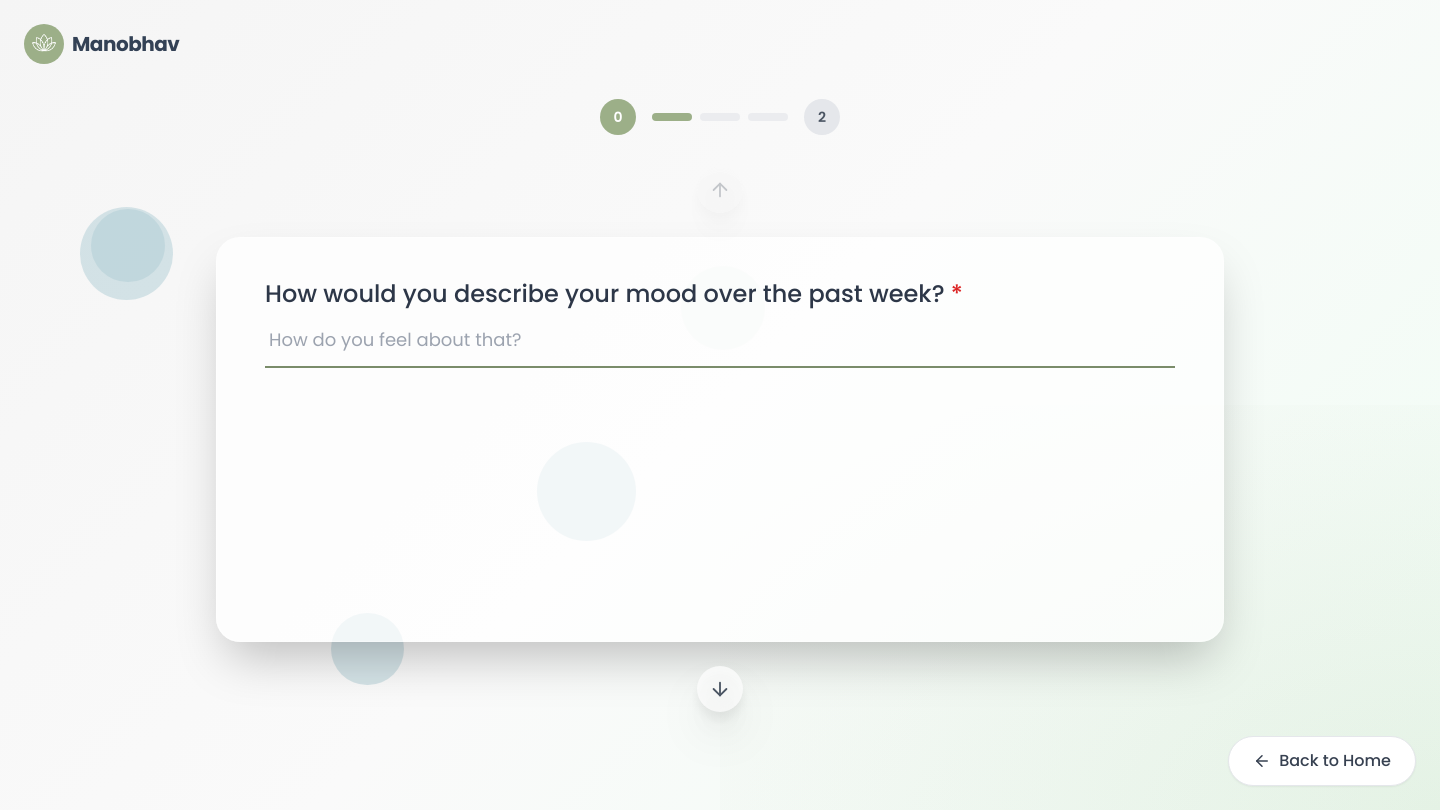
Test case: public route interactions › supports journey next and previous controls
expect the text "How would you describe your mood over the past week?" is shown: met, box [265,276,945,310]
Type "Steady" into the field named "describe your mood over the past week". click: (720, 346)
box: [265,326,1175,368]
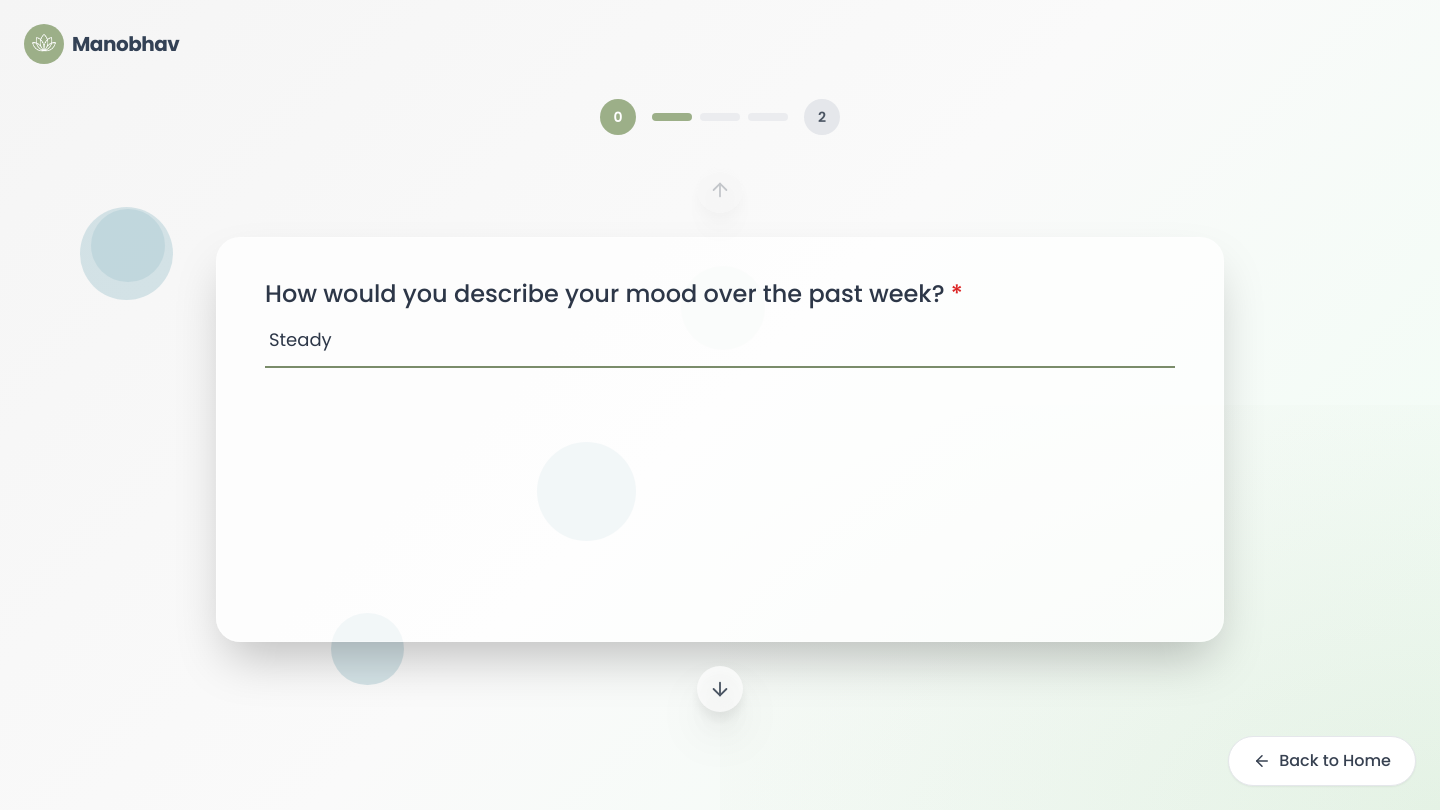
Click the button named "next question". click: (720, 688)
box: [697,666,743,712]
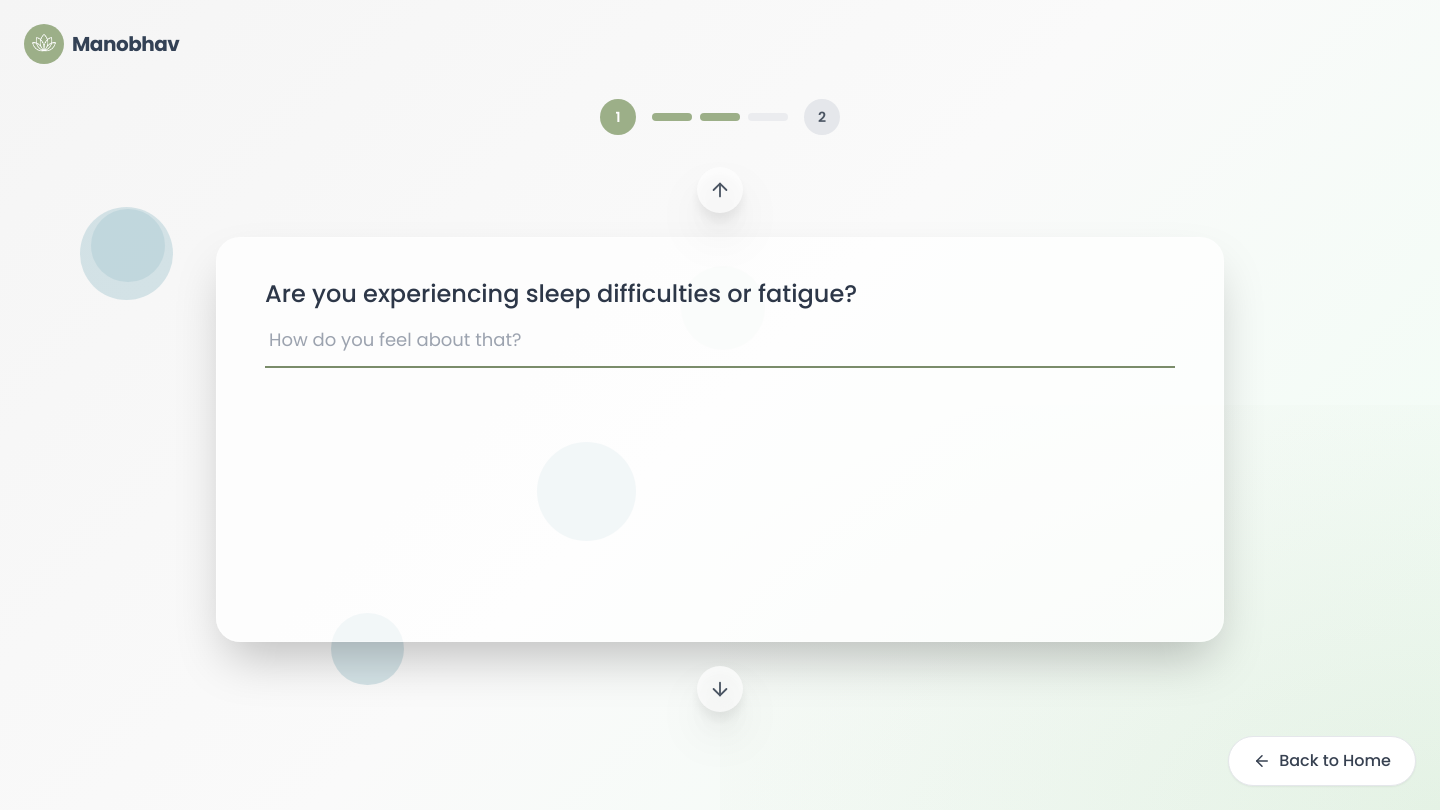
expect the text "Are you experiencing sleep difficulties or fatigue?" is shown: met, box [265,276,857,310]
Click the button named "previous question". click: (720, 190)
box: [697,166,743,212]
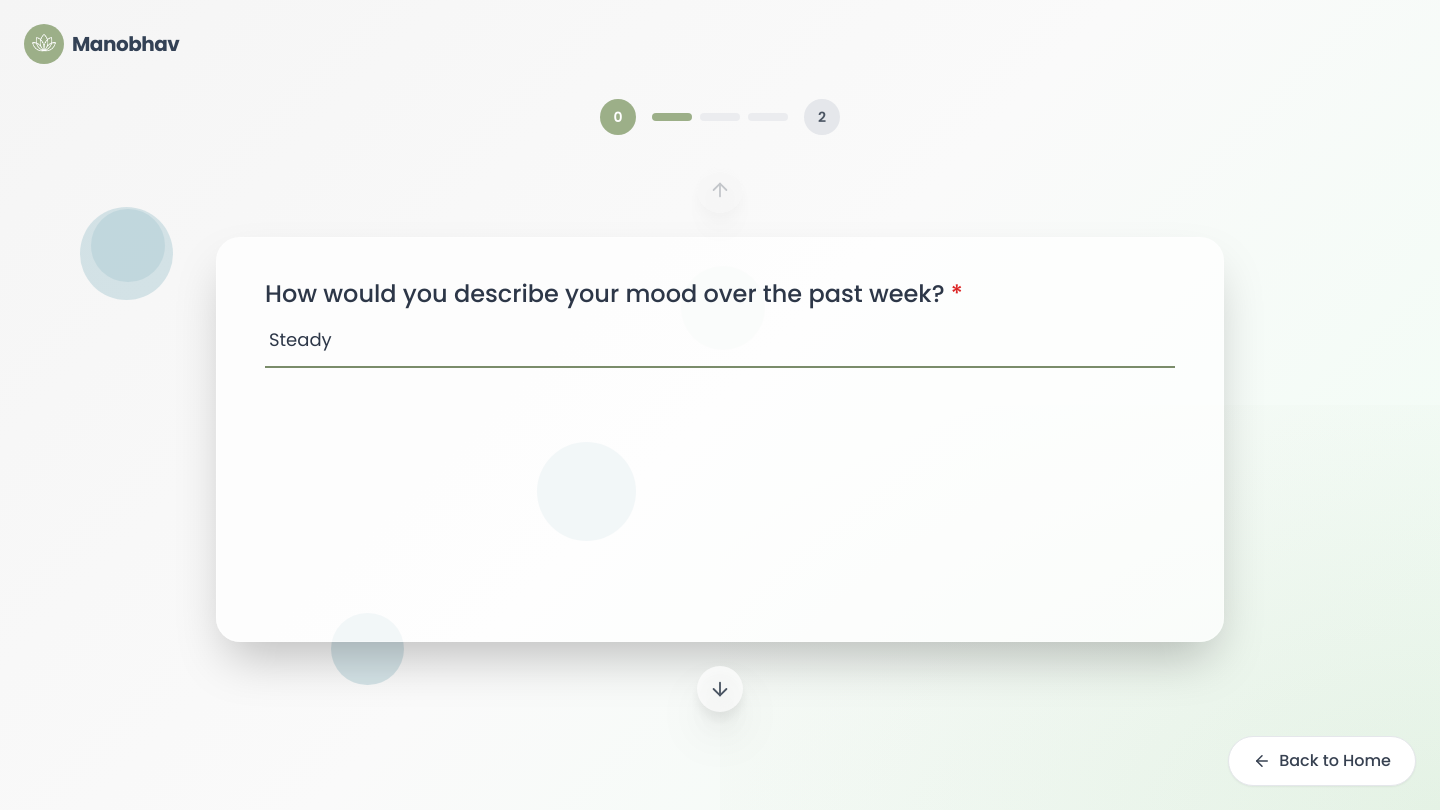
expect the text "How would you describe your mood over the past week?" is shown: met, box [265,276,945,310]
